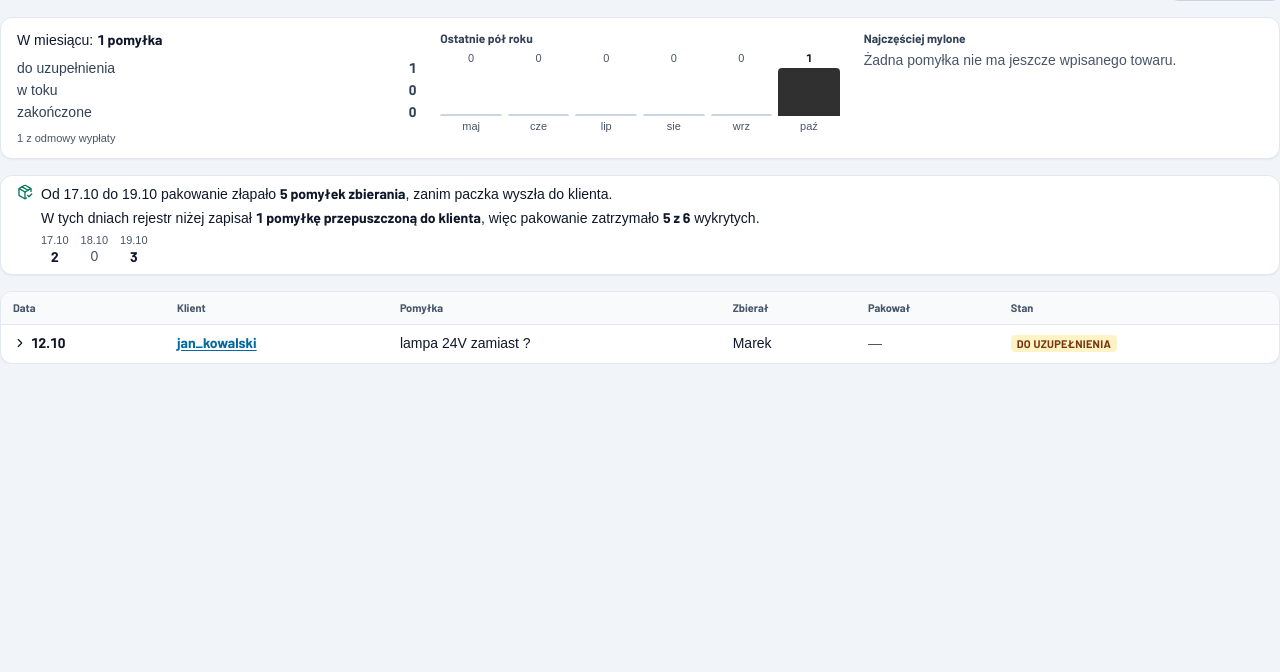
Test: rejestr pomyłek › wiersz, który zapis wyprowadził poza filtr, zostaje do zwinięcia
Click the button named "Pomyłka z 12.10.2026" at (39, 342), box x1=13 y1=332 x2=65 y2=352
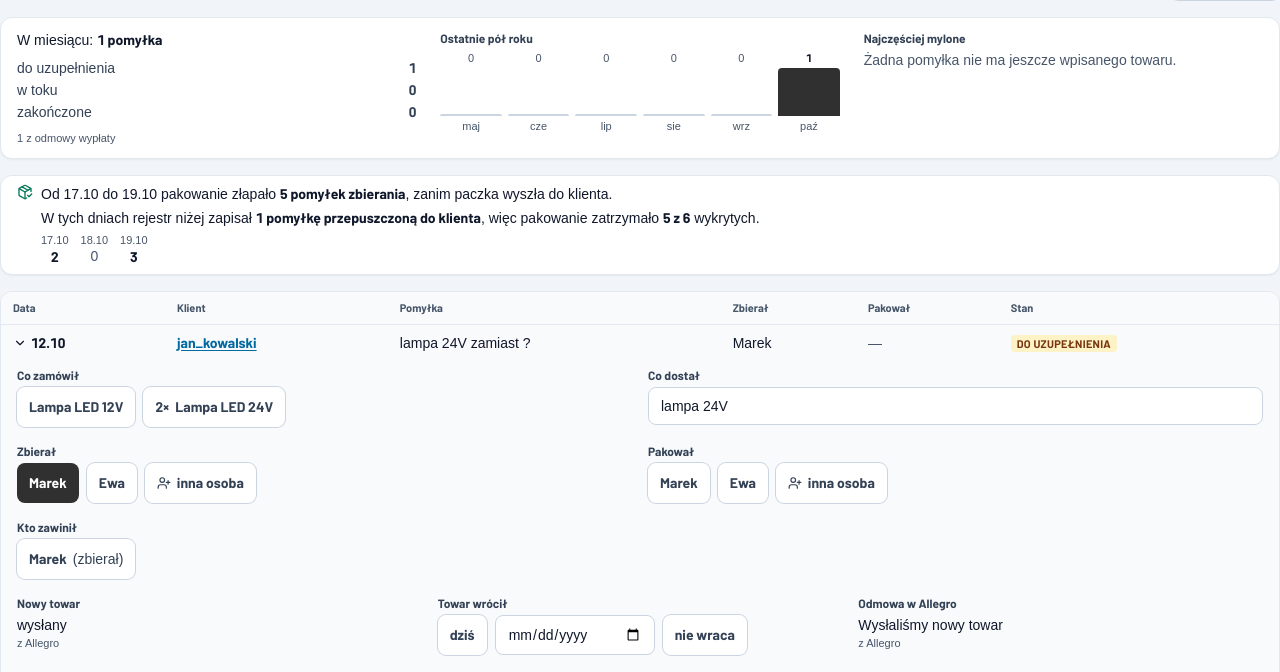
Click the 2nd button "Ewa" at (743, 482), box x1=718 y1=462 x2=768 y2=502
(page scrolled)
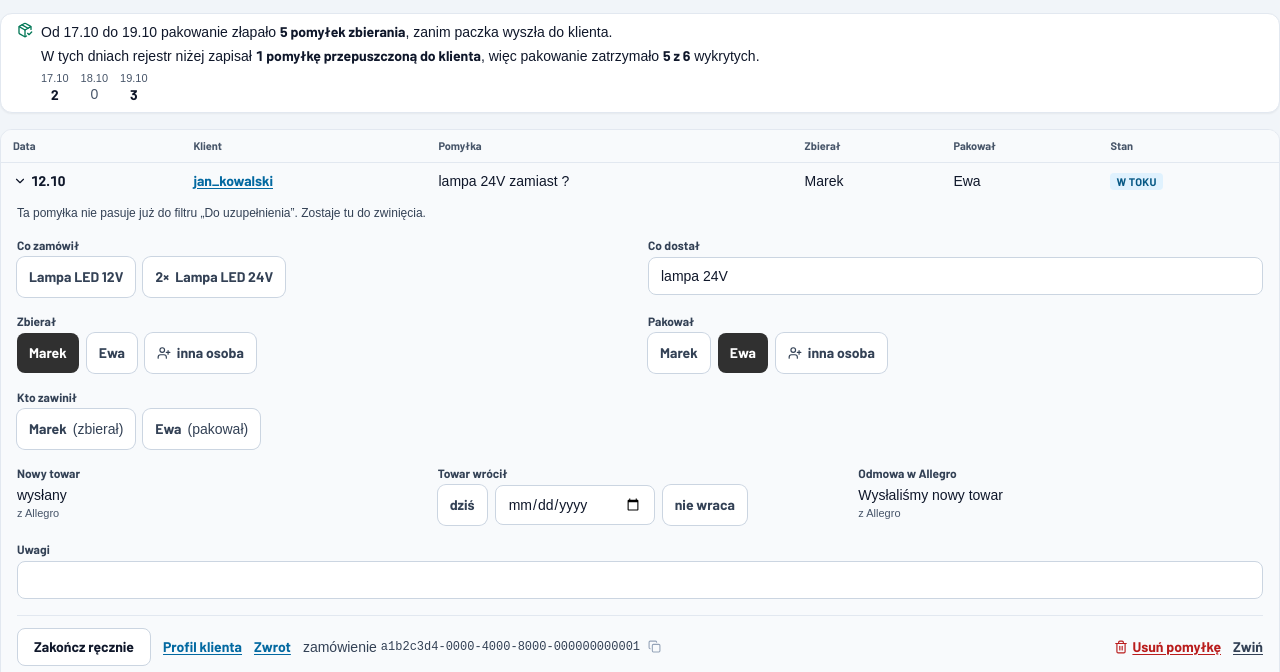
Expected: the link "jan_kowalski" is shown, x1=193 y1=172 x2=273 y2=188
Expected: the text "nie pasuje już do filtru „Do uzupełnienia”" is shown, x1=17 y1=206 x2=426 y2=220
Click the button "Zwiń" at (1248, 646), box x1=1233 y1=636 x2=1263 y2=656
(page scrolled)
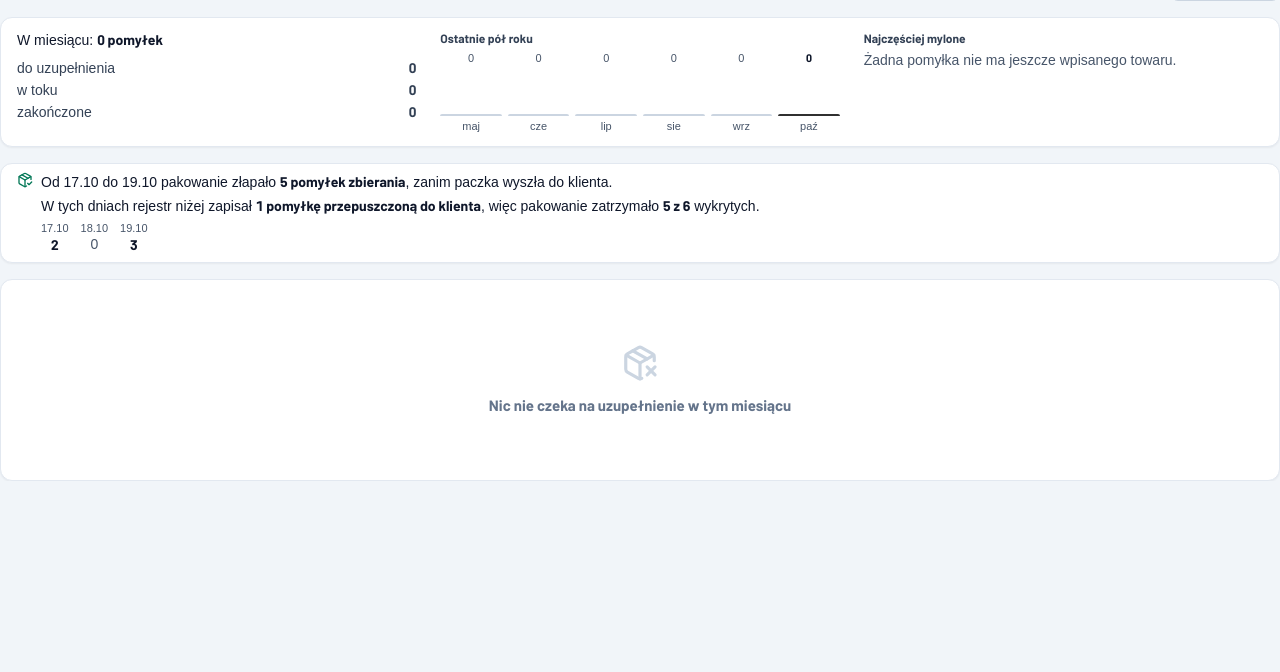
Expected: the link "jan_kowalski" is gone
